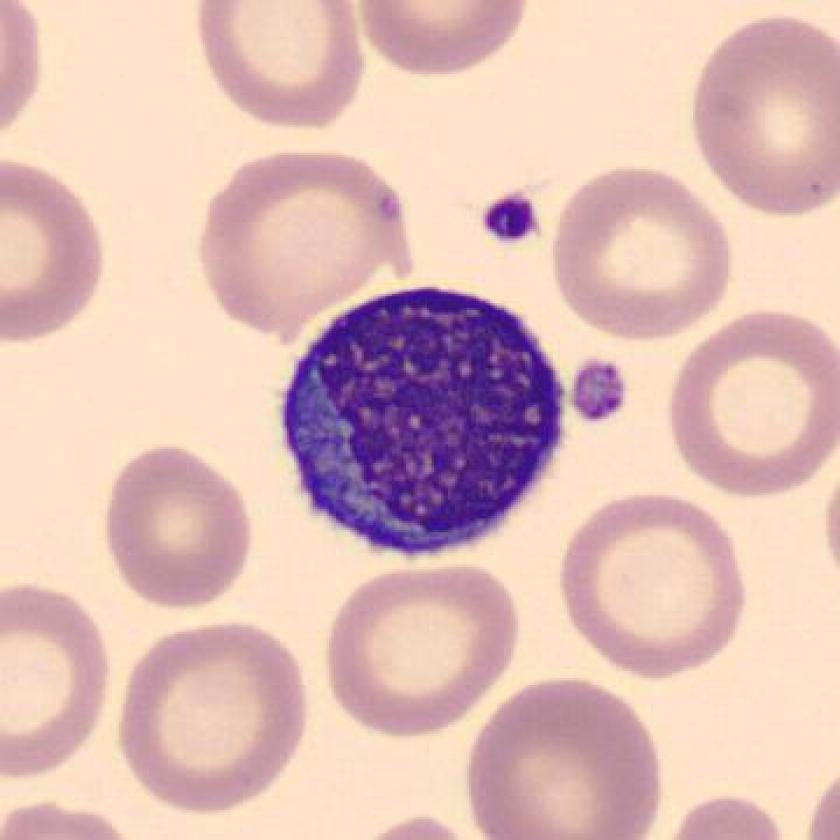lymphocyte: (265, 267, 580, 570)
platelets: (568, 355, 631, 430), (481, 186, 537, 242)
